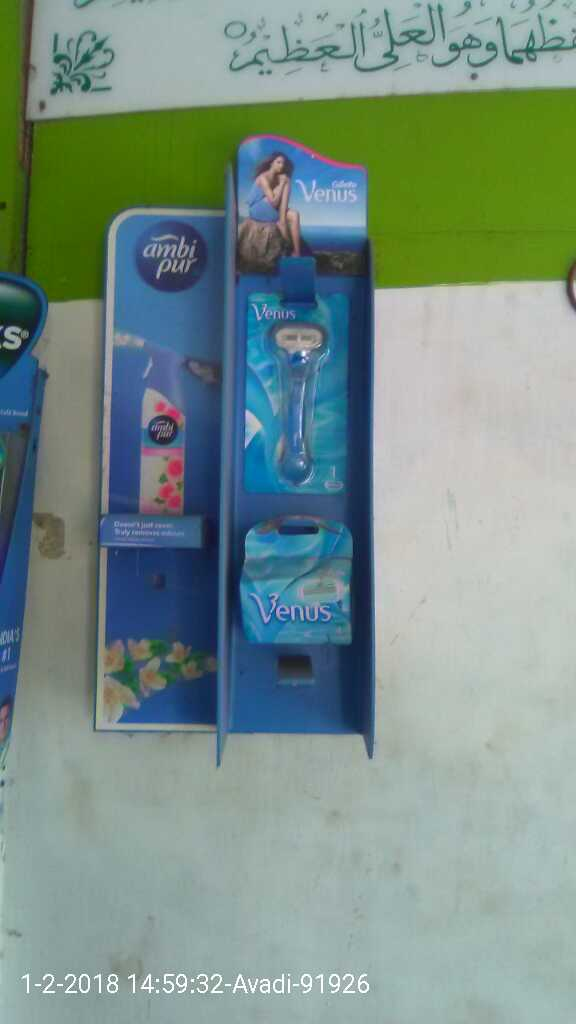venus: (242, 288, 362, 494), (243, 525, 364, 650)
